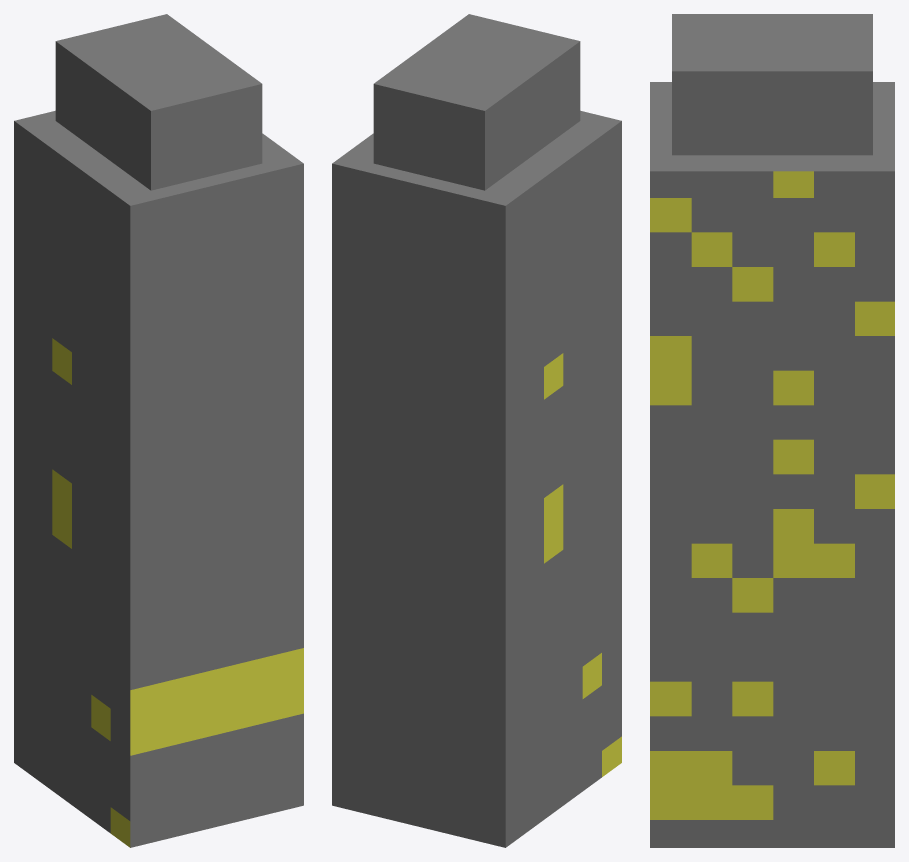
Rendered from Skyscraper2.fbx.
3 views of the same model, side by side, from view 1: azimuth 30°, elevation 25°; view 2: azimuth 150°, elevation 25°; view 3: azimuth 270°, elevation 25° (orthographic). The views are drawn at different scales.
Parts seen in each view (by area): view 1: Box017; view 2: Box017; view 3: Box017.
Part boxes in pixels (x1,y1,x2,y2): Box017: (14,14,303,847); Box017: (332,14,621,847); Box017: (650,14,894,847).
Size of the model in its own units: 651 by 2585 by 755.
